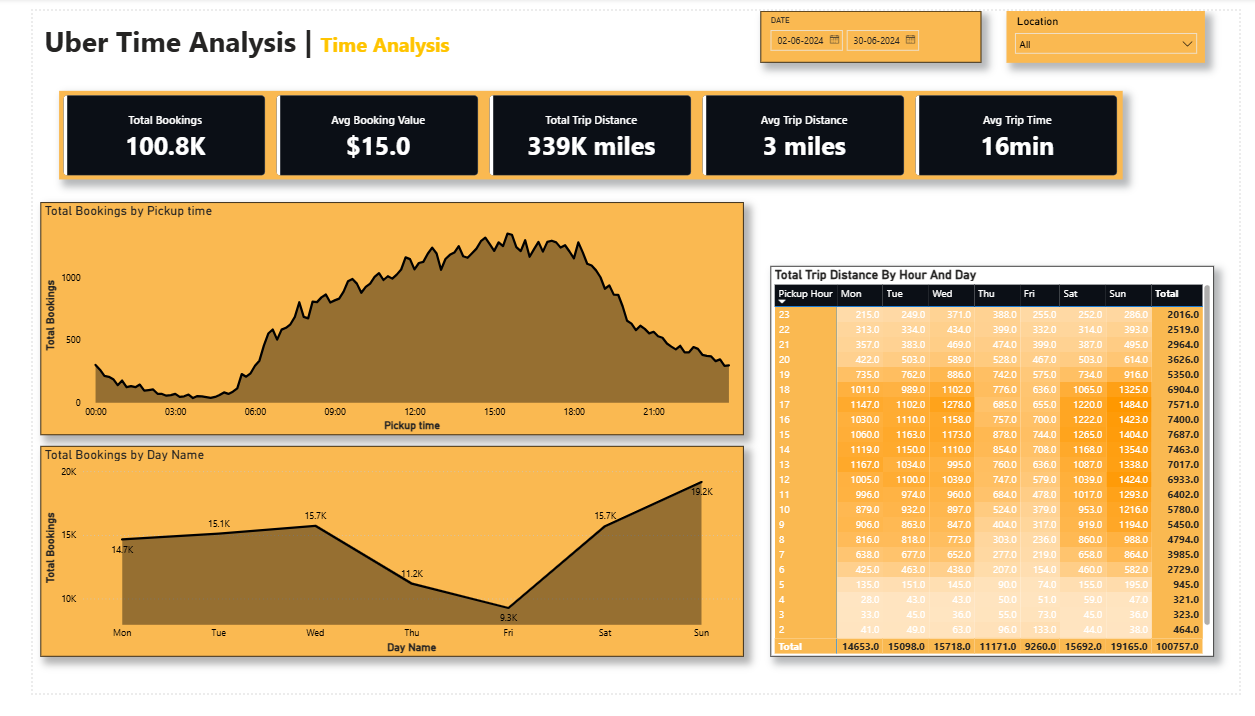

This screenshot's page, from the dashboard's own definition file:
{"tool":"powerbi","page":{"name":"Time Analysis","canvas":[1608,910],"ordinal":1},"visuals":[{"type":"lineChart","fields":{"Category":["Trip Details.Pickup Time (HH:MM:SS) (bins)"],"Y":["Trip Details.Total Bookings"]},"box":[10.4,255.2,937.3,310.4],"z":0},{"type":"areaChart","fields":{"Y":["Trip Details.Total Bookings"],"Category":["Calendar Table.Day Name"]},"box":[10.4,580.6,937.3,280.6],"z":1000},{"type":"pivotTable","title":"Total Trip Distance By Hour And Day ","fields":{"Rows":["Trip Details.Pickup Hour"],"Columns":["Calendar Table.Day Name"],"Values":["Trip Details.Total Bookings"]},"box":[983.6,340.3,591,520.9],"z":2000},{"type":"slicer","fields":{"Values":["Calendar Table.Date"]},"box":[970.1,0,294,68.7],"z":3000},{"type":"cardVisual","fields":{"Data":["Trip Details.Total Bookings","Trip Details.Avg Booking Value","Trip Details.Total Trip Distance","Trip Details.Avg Trip Distance","Trip Details.Average Trip Time (Minutes)"]},"box":[34.3,107.5,1417.9,117.9],"z":4000},{"type":"slicer","fields":{"Values":["Location Table.Location"]},"box":[1298.5,0,264.2,68.7],"z":5000},{"type":"textbox","box":[10.4,10.4,816.4,64.2],"z":6000}]}

Visuals, with their boxes in screenshot pixels (x1, y1, x2, y2), scaled from the page's 1608x910 canvas onto the 1255x716 screenshot:
lineChart - Trip Details.Pickup Time (HH:MM:SS) (bins) x Trip Details.Total Bookings: 8/201/740/445
areaChart - Trip Details.Total Bookings x Calendar Table.Day Name: 8/457/740/678
"Total Trip Distance By Hour And Day " pivotTable: 768/268/1229/678
slicer - Calendar Table.Date: 757/0/987/54
cardVisual - Trip Details.Total Bookings x Trip Details.Avg Booking Value: 27/85/1133/177
slicer - Location Table.Location: 1013/0/1220/54
textbox: 8/8/645/59
